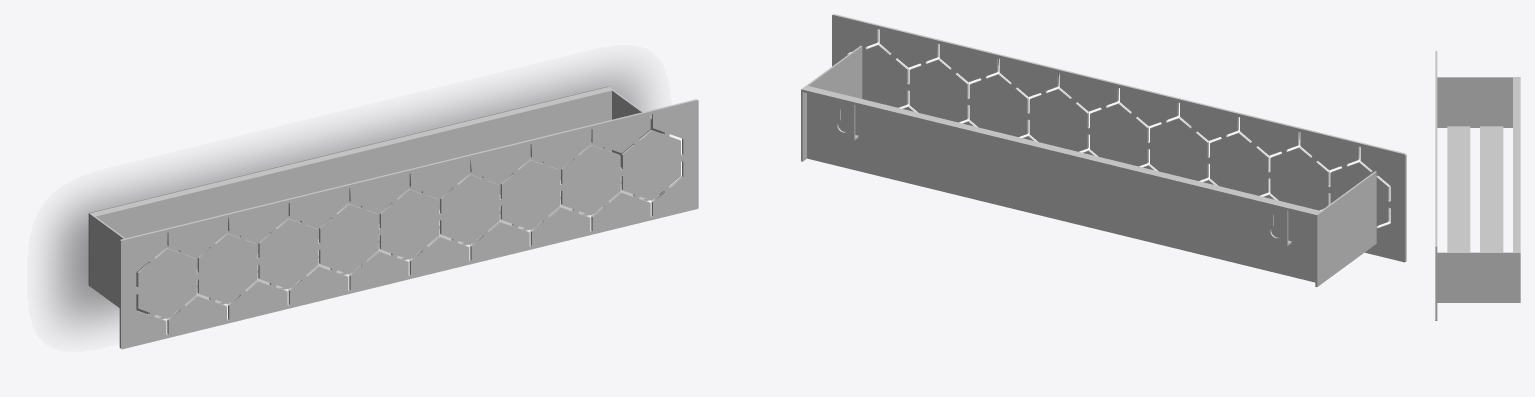
Rendered from bee-mono.5a4cec8ac4.ar.glb.
The picture shows the model from 3 angles, left to right: view 1: azimuth 30°, elevation 25°; view 2: azimuth 150°, elevation 25°; view 3: azimuth 270°, elevation 25°; orthographic projection. The views are drawn at different scales.
Parts seen in each view (by area): view 1: NAUO1, object 2; view 2: NAUO1; view 3: NAUO1.
Part boxes in pixels (box(x1,y1,x2,y2)): NAUO1: box(88, 86, 698, 349); object 2: box(49, 70, 648, 326); NAUO1: box(801, 14, 1406, 286); NAUO1: box(1435, 51, 1520, 320).
Size of the model in its own units: 0.58 by 0.17 by 0.092.
Materials: 2 (1 with a texture image).
